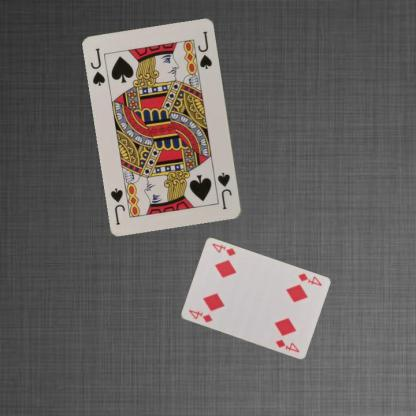4d: (295, 270, 323, 288), (186, 308, 213, 324)
Js: (88, 46, 107, 87), (215, 170, 233, 211)
